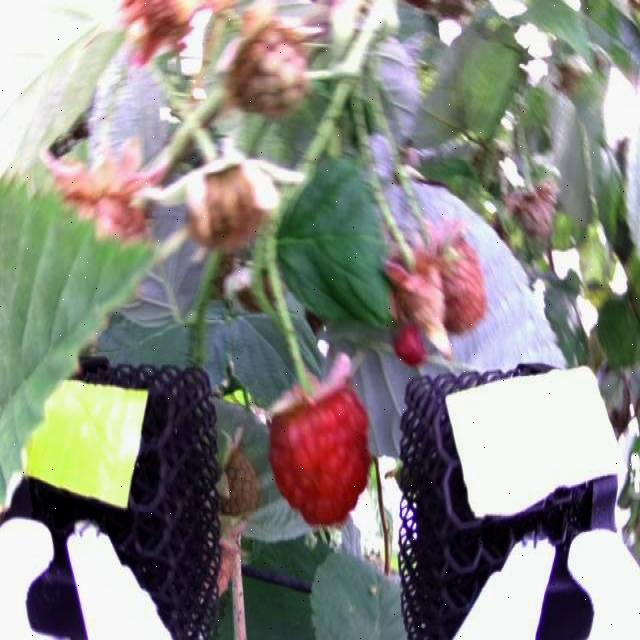Riped berries: (264, 388, 384, 528)
